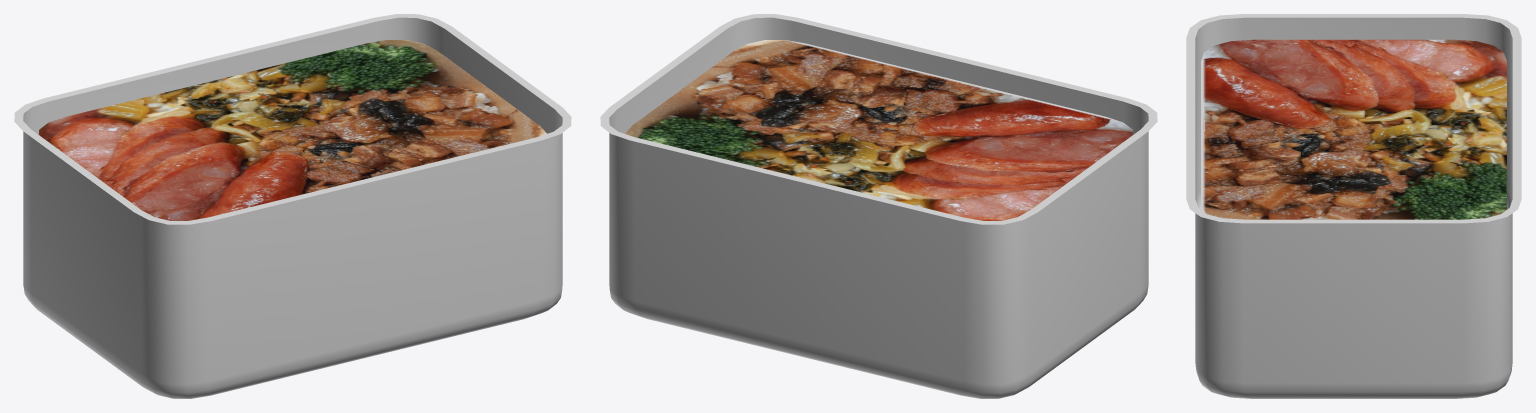
The model's file is gxxclpg.FBX.
3 renders of one model, left to right at view 1: azimuth 30°, elevation 25°; view 2: azimuth 150°, elevation 25°; view 3: azimuth 270°, elevation 25°, orthographic.
Parts seen in each view (by area): view 1: Box001; view 2: Box001; view 3: Box001.
Part boxes in pixels (<box>): Box001: <box>14,14,571,398</box>; Box001: <box>600,14,1157,398</box>; Box001: <box>1186,14,1521,398</box>.
Size of the model in its own units: 0.1169 by 0.0481 by 0.0791.
